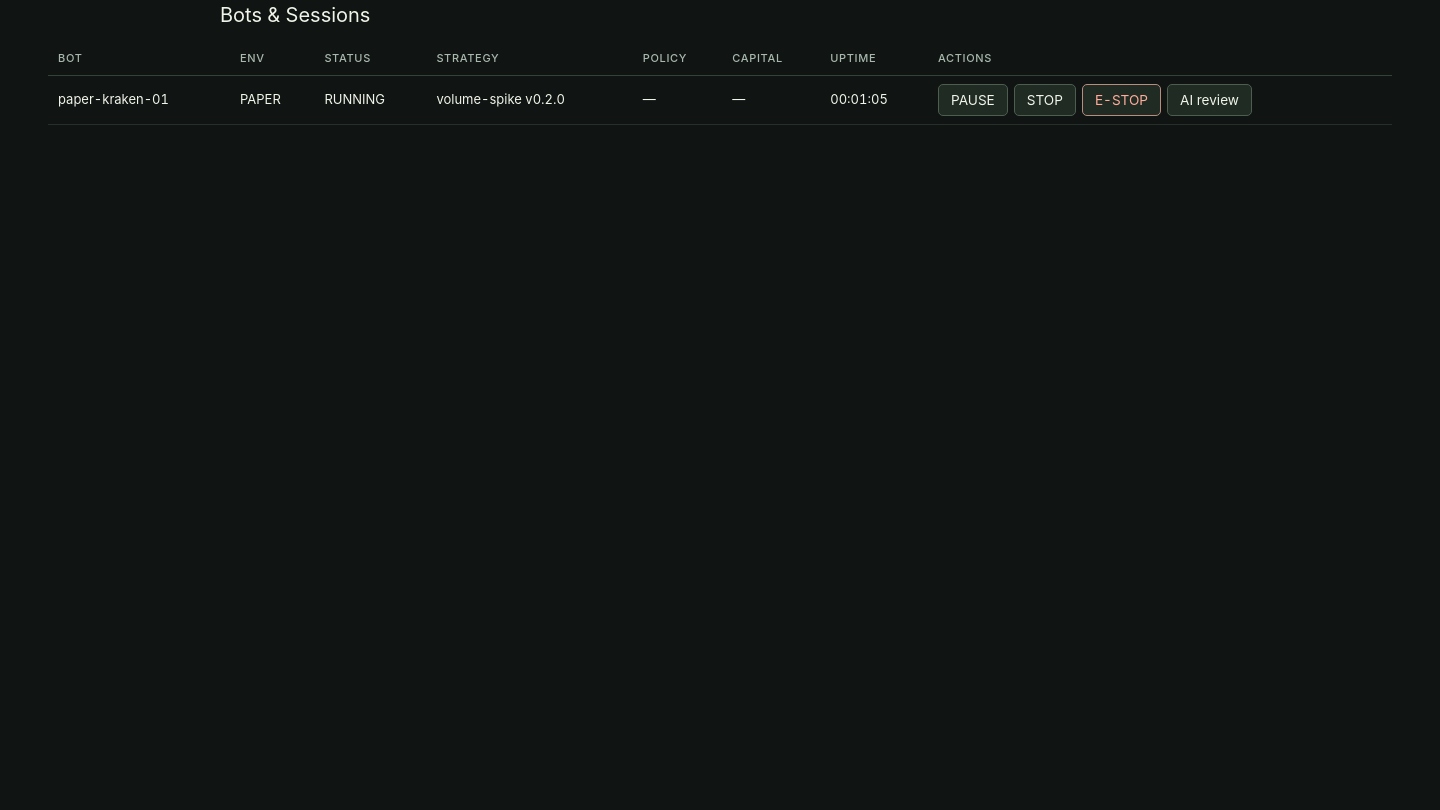
it: BotsPage › E-STOP asks for confirmation and sends nothing on cancel
Later steps or results of the test are not shown.
Expected: the text "volume-spike v0.2.0" is shown, [426,75,633,124]
Click the button "E-STOP". click: (1121, 100)
box: [1082,84,1161,116]
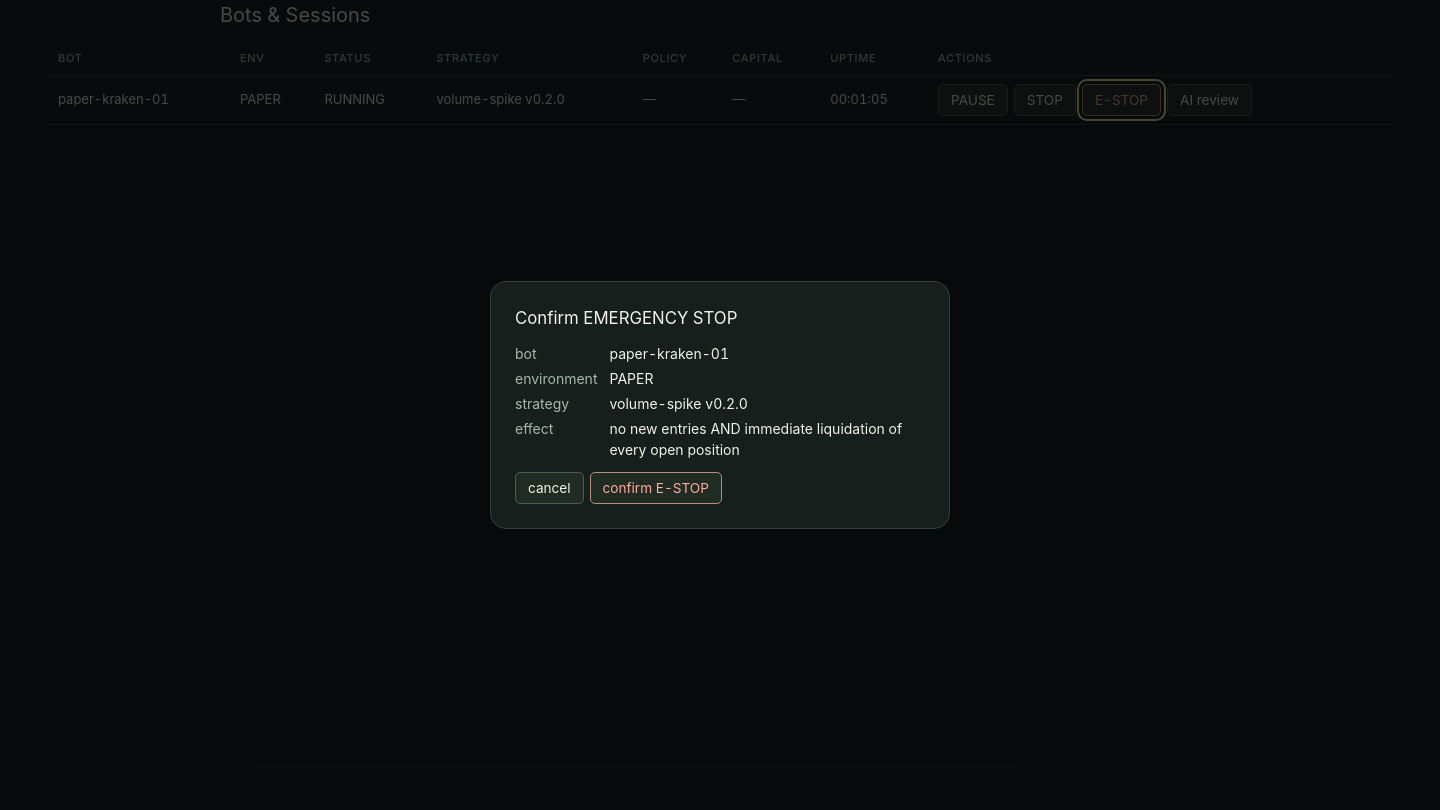
Now the dialog named "Confirm command" shows "immediate liquidation", box [610,420,902,458]
